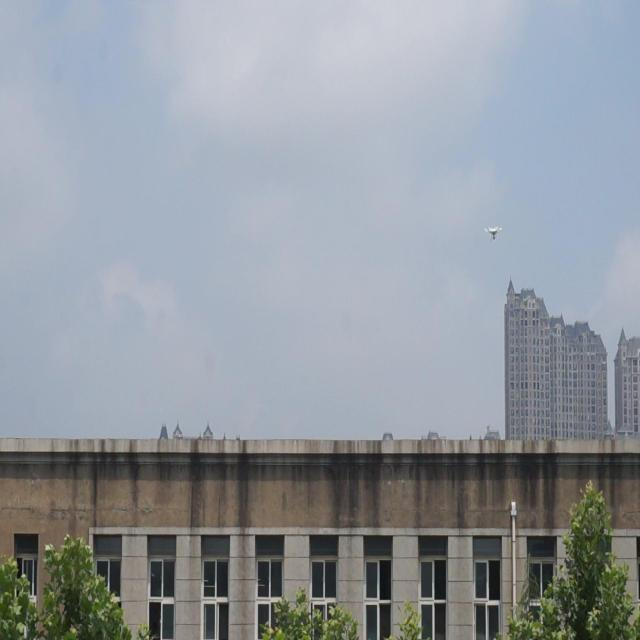drone: (482, 221, 502, 241)
